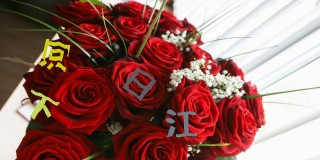下: (28, 88, 60, 119)
日: (122, 68, 155, 100)
江: (165, 108, 198, 138)
河: (38, 38, 70, 71)
